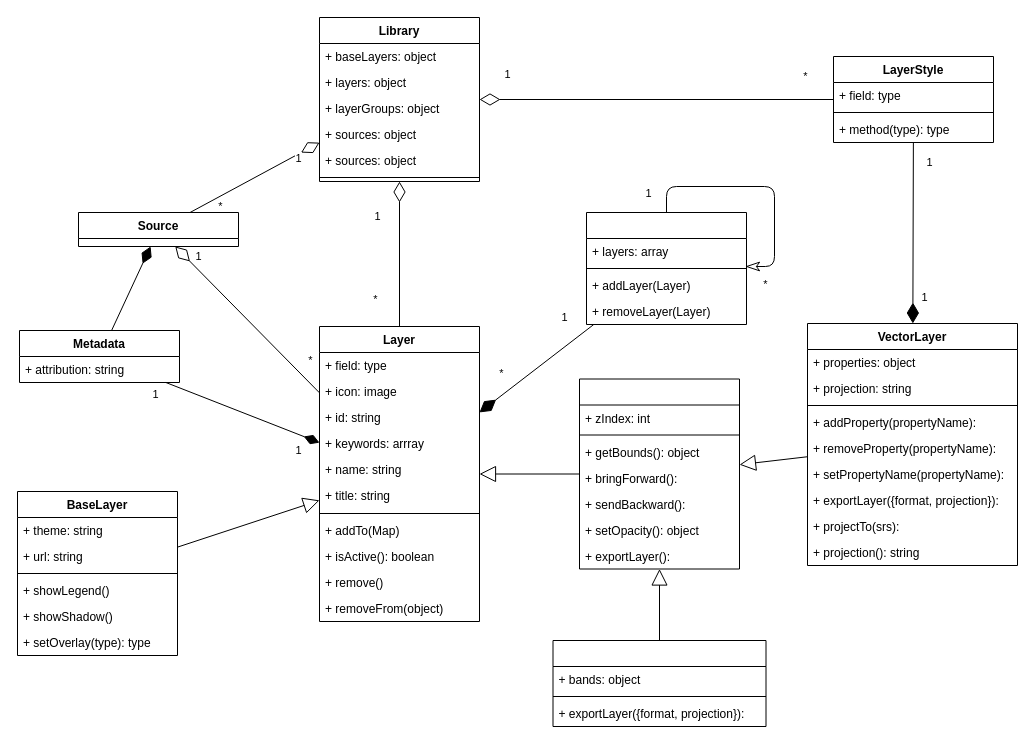
This 1035x747 diagram has some shape labels left out. The shapes that lost their labels are listed below. From the top down, each one's box as (x1, y1, x2, y2) in pixels, then its label:
(586, 212, 746, 324): LayerGroup
(578, 378, 740, 569): OverlayLayer
(552, 640, 766, 726): RasterLayer
